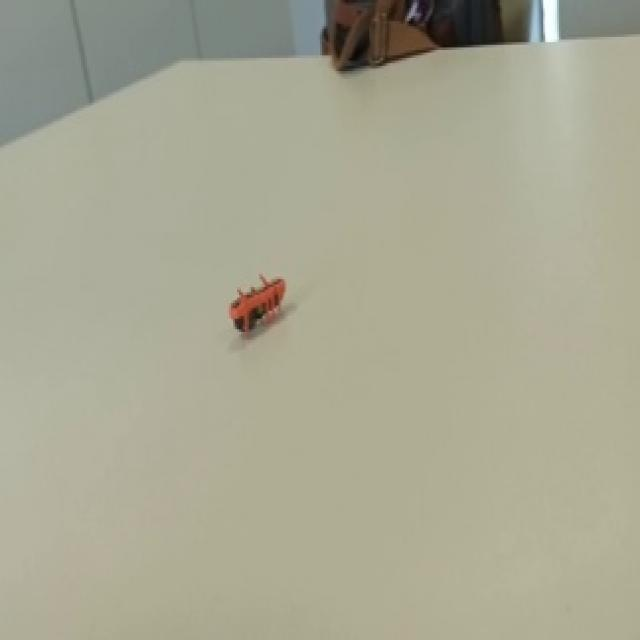7_NanoBug_Naranja: (226, 282, 300, 338)
